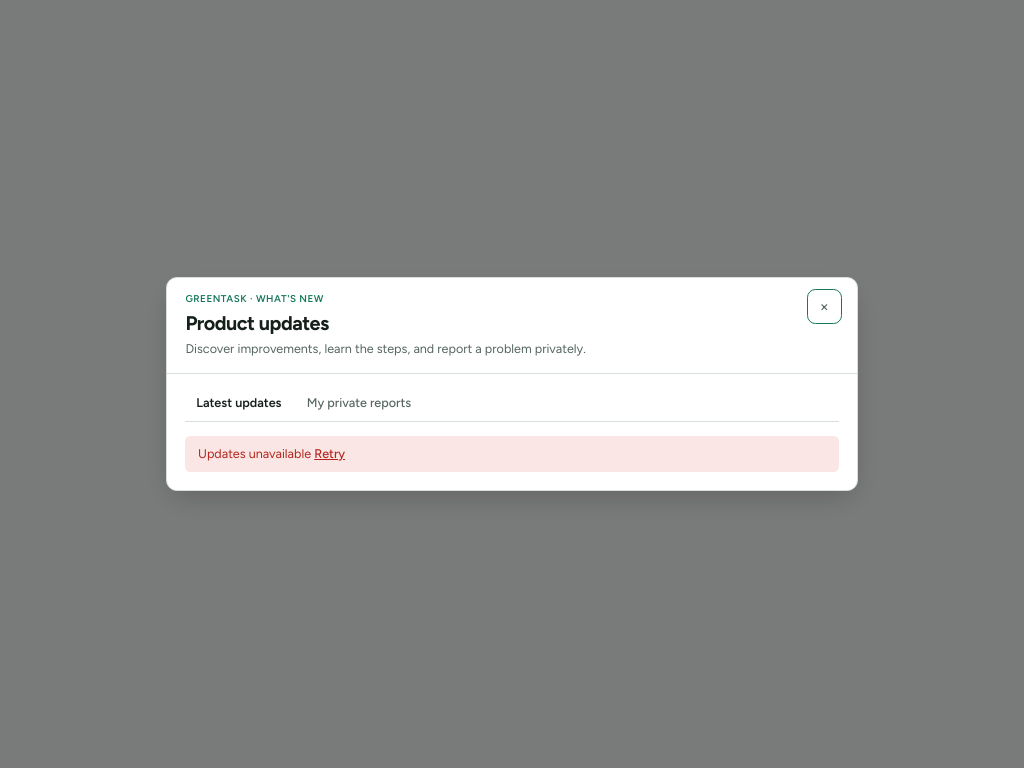
feed failure has an actionable retry, not a false empty result
The width and height of the screenshot is (1024, 768).
Check: the message "Updates unavailable Retry" is shown, box [198,445,345,463]
Click the button "Retry": x=330, y=454 [314,445,345,463]
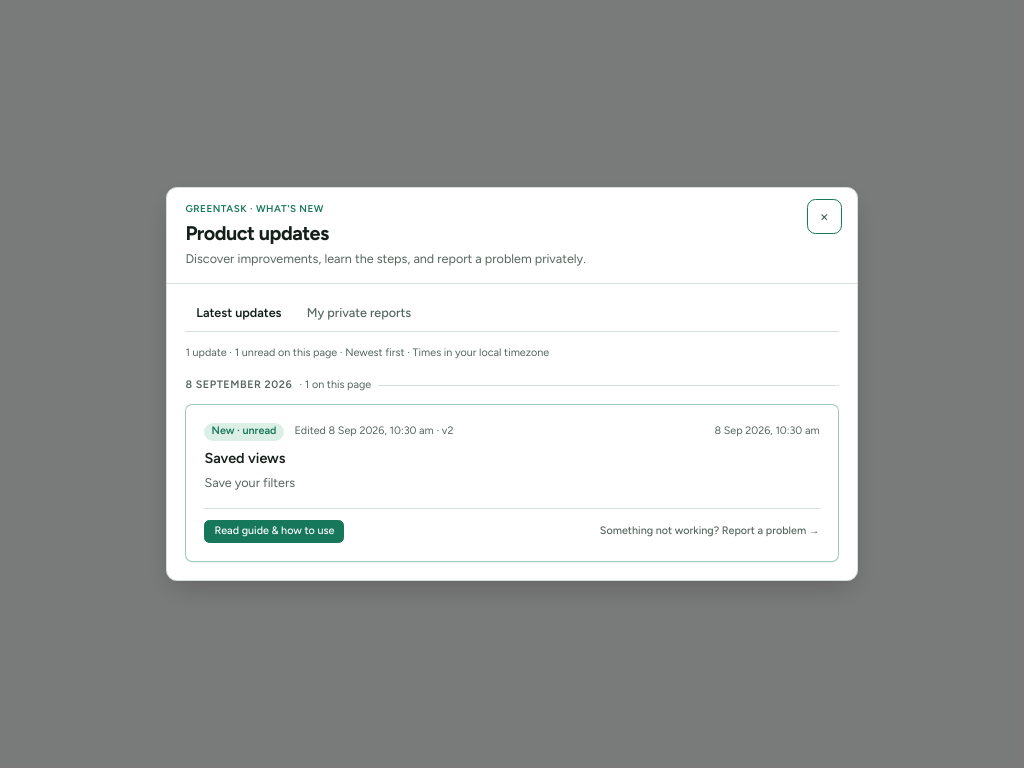
Check: the text "Saved views" is shown, box [204,449,286,467]
